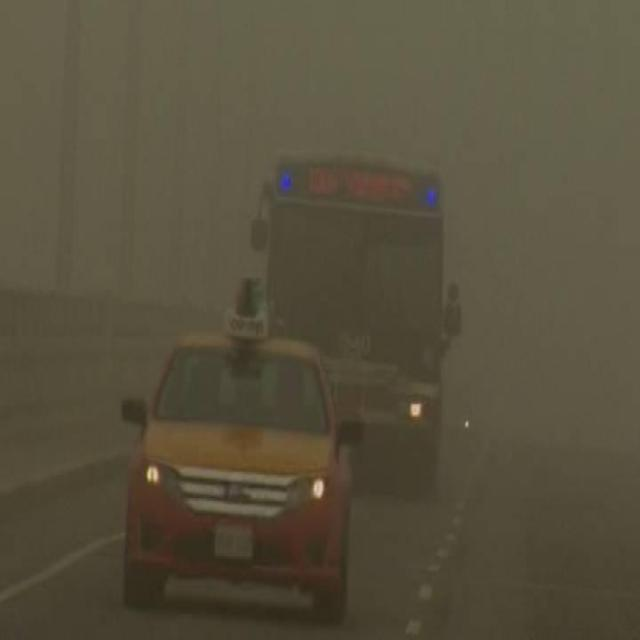Bus: (232, 91, 476, 483)
Car: (112, 275, 356, 612)
